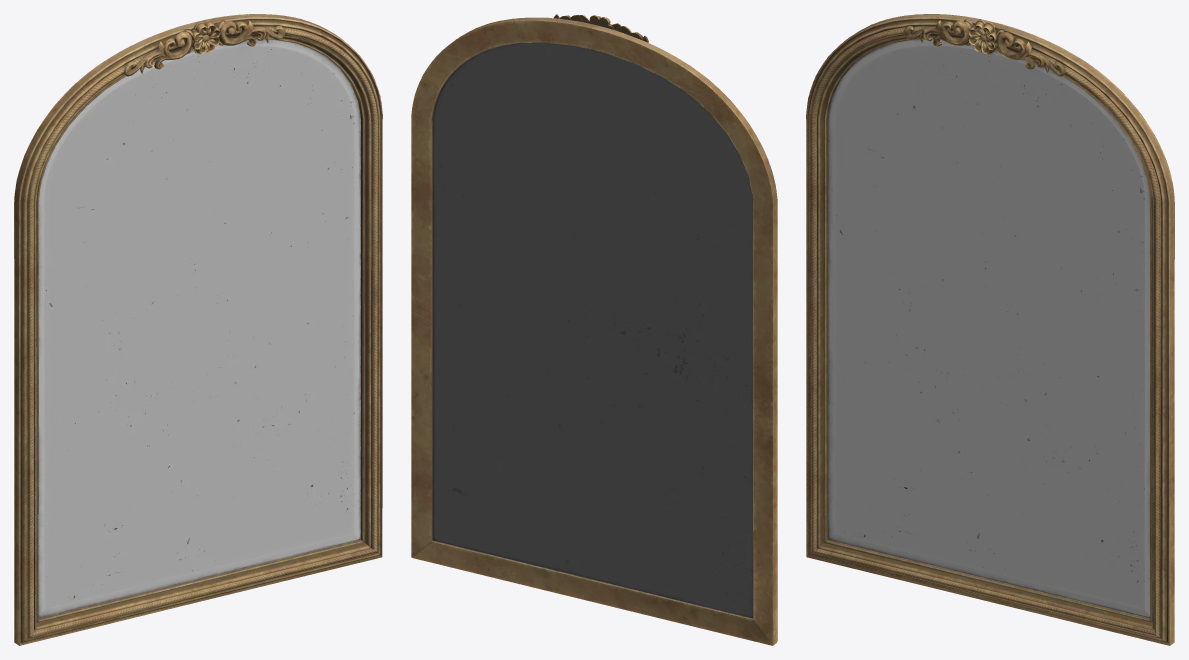
The model's file is mirror.glb.
3 views of the same model, side by side, from view 1: azimuth 30°, elevation 25°; view 2: azimuth 150°, elevation 25°; view 3: azimuth 330°, elevation 25° (orthographic).
Parts seen in each view (by area): view 1: mirror; view 2: mirror; view 3: mirror.
Part boxes in pixels (bbox=[...]): mirror: bbox=[14, 14, 382, 645]; mirror: bbox=[411, 14, 777, 645]; mirror: bbox=[806, 14, 1174, 645].
Bounding box in the file's own units: 0.4865 × 0.7442 × 0.026.
1 material, 1 textured.
